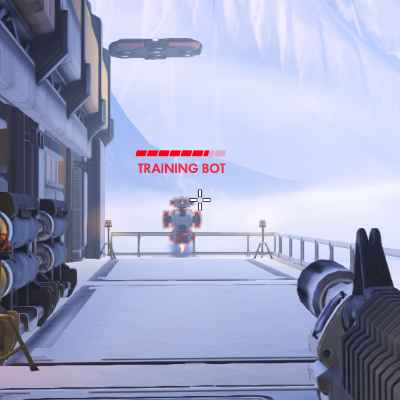hpbar: (135, 149, 226, 157)
